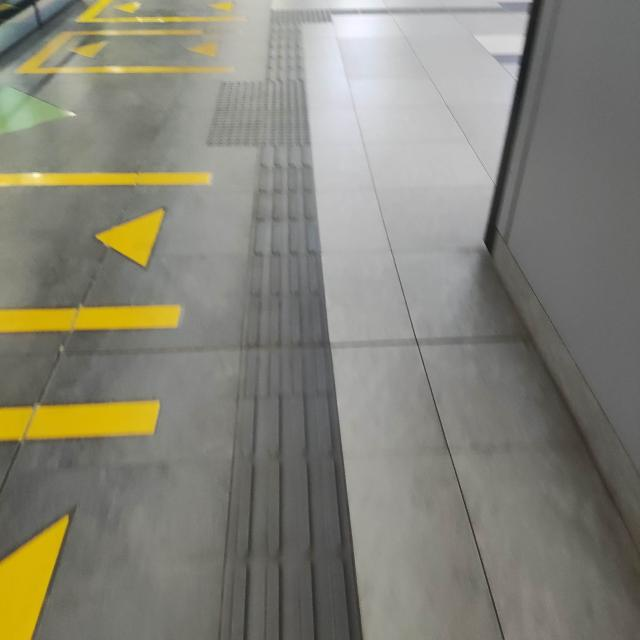lurus: (238, 17, 350, 640)
